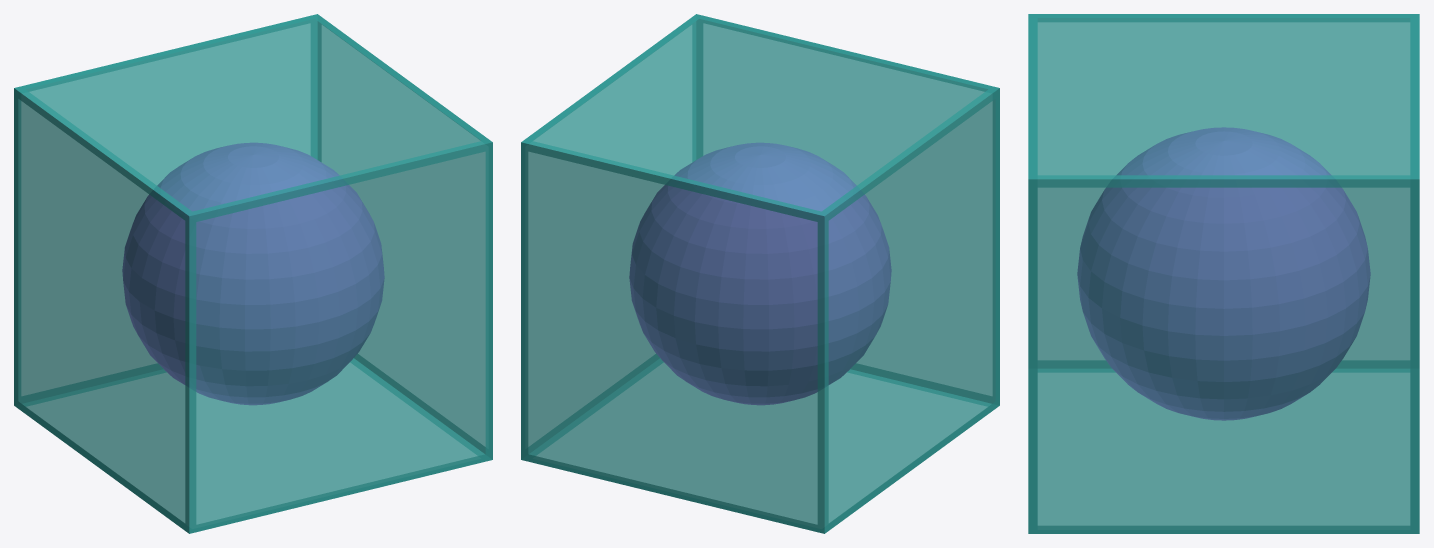
The model's file is cell-sphere.dae.
3 views of the same model, side by side, from view 1: azimuth 30°, elevation 25°; view 2: azimuth 150°, elevation 25°; view 3: azimuth 270°, elevation 25° (orthographic). The views are drawn at different scales.
Parts seen in each view (by area): view 1: Cell-Sphere; view 2: Cell-Sphere; view 3: Cell-Sphere.
Part boxes in pixels (box(x1,y1,x2,y2)): Cell-Sphere: box(14, 14, 492, 533); Cell-Sphere: box(521, 14, 999, 533); Cell-Sphere: box(1028, 14, 1419, 533).
Bounding box in the file's own units: 0.6667 × 0.6667 × 0.6667.
